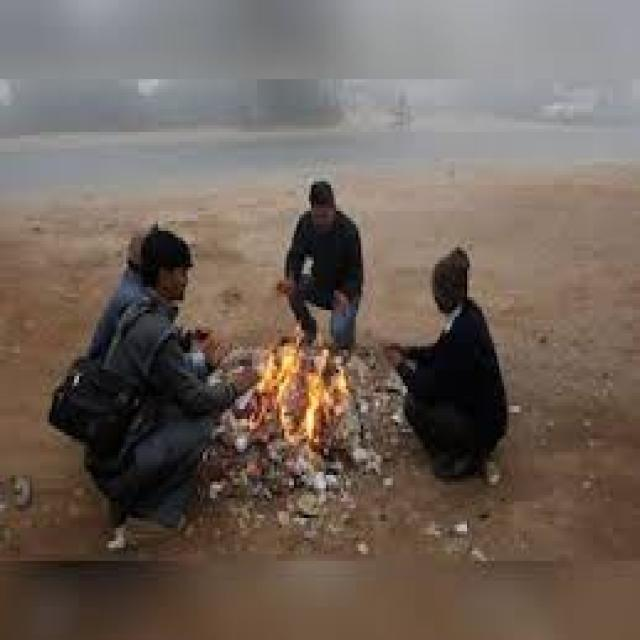fire: (250, 323, 302, 407), (279, 372, 320, 447), (320, 368, 349, 427)
